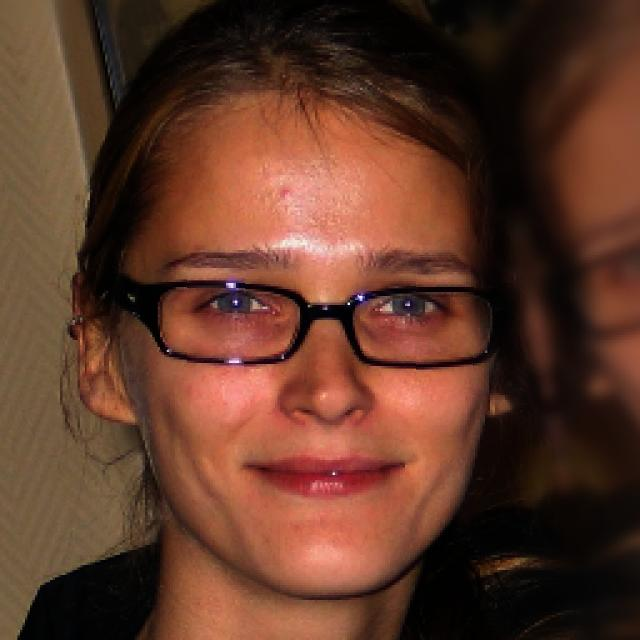glasses: (86, 252, 516, 394)
